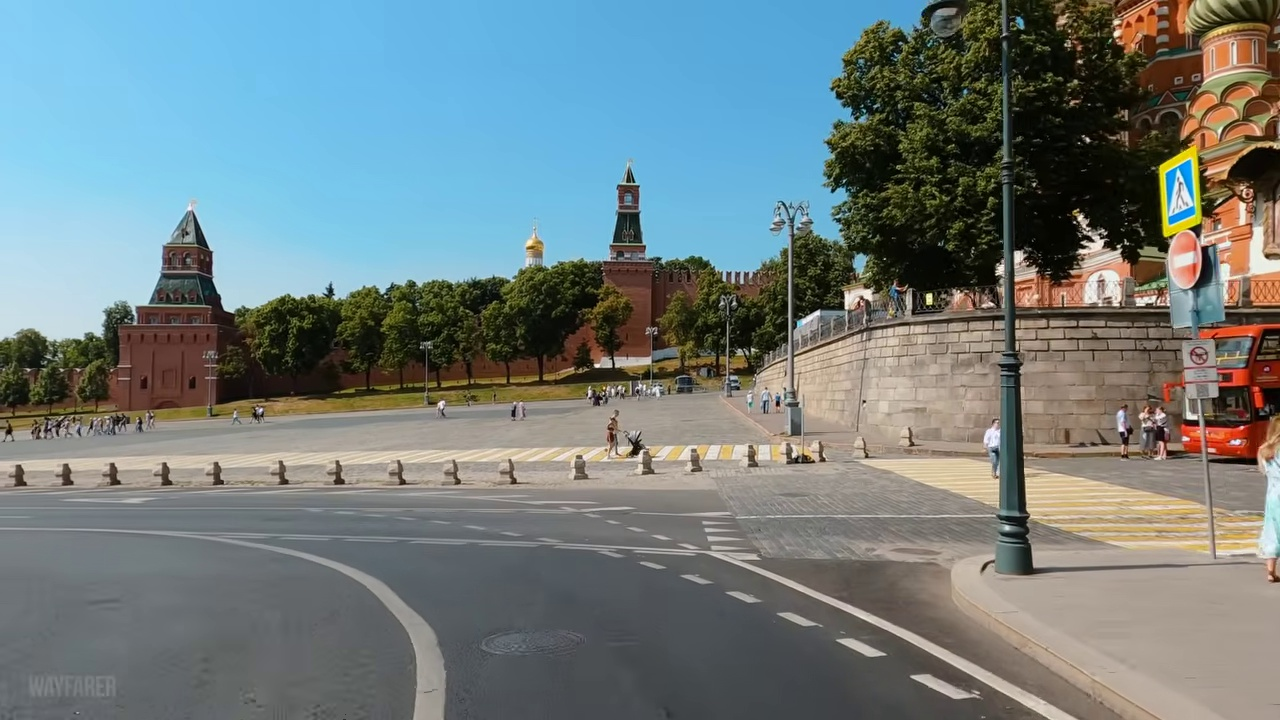apagada: (771, 212, 811, 237)
